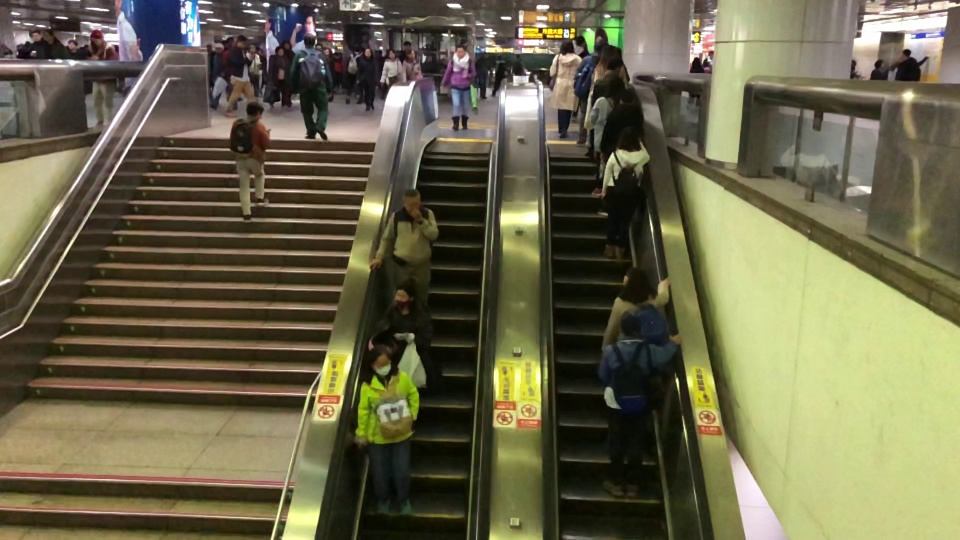person_head: (367, 344, 395, 377), (391, 278, 416, 312), (616, 122, 640, 151), (617, 310, 641, 338), (621, 265, 648, 289), (401, 187, 422, 216), (602, 75, 626, 99), (599, 45, 618, 68), (246, 100, 264, 121), (616, 84, 634, 105), (605, 55, 623, 74), (88, 28, 104, 45), (558, 39, 575, 54), (302, 31, 316, 48), (593, 39, 608, 54), (235, 34, 248, 48), (385, 48, 398, 61), (455, 44, 467, 58), (42, 28, 54, 41), (213, 43, 224, 54), (874, 58, 885, 69), (405, 49, 415, 61), (274, 45, 284, 56), (281, 39, 291, 50), (363, 47, 373, 58), (901, 48, 912, 58), (403, 40, 412, 52), (248, 44, 256, 54), (353, 43, 361, 53)
person_vbox: (597, 309, 682, 499), (353, 343, 421, 518), (366, 188, 439, 308), (599, 265, 671, 364), (592, 87, 645, 216), (601, 125, 651, 258), (574, 41, 629, 155), (228, 100, 272, 224), (375, 277, 434, 368), (583, 48, 628, 162), (588, 76, 628, 198), (289, 32, 333, 141), (548, 38, 583, 138), (222, 33, 262, 120), (82, 30, 118, 126), (441, 42, 477, 131), (591, 58, 631, 118), (208, 42, 238, 111), (572, 52, 593, 146), (265, 45, 292, 109), (355, 47, 379, 110), (894, 46, 929, 82), (243, 42, 264, 96), (378, 48, 403, 93), (344, 42, 361, 104), (39, 27, 69, 59), (401, 48, 423, 83), (867, 58, 889, 80)
